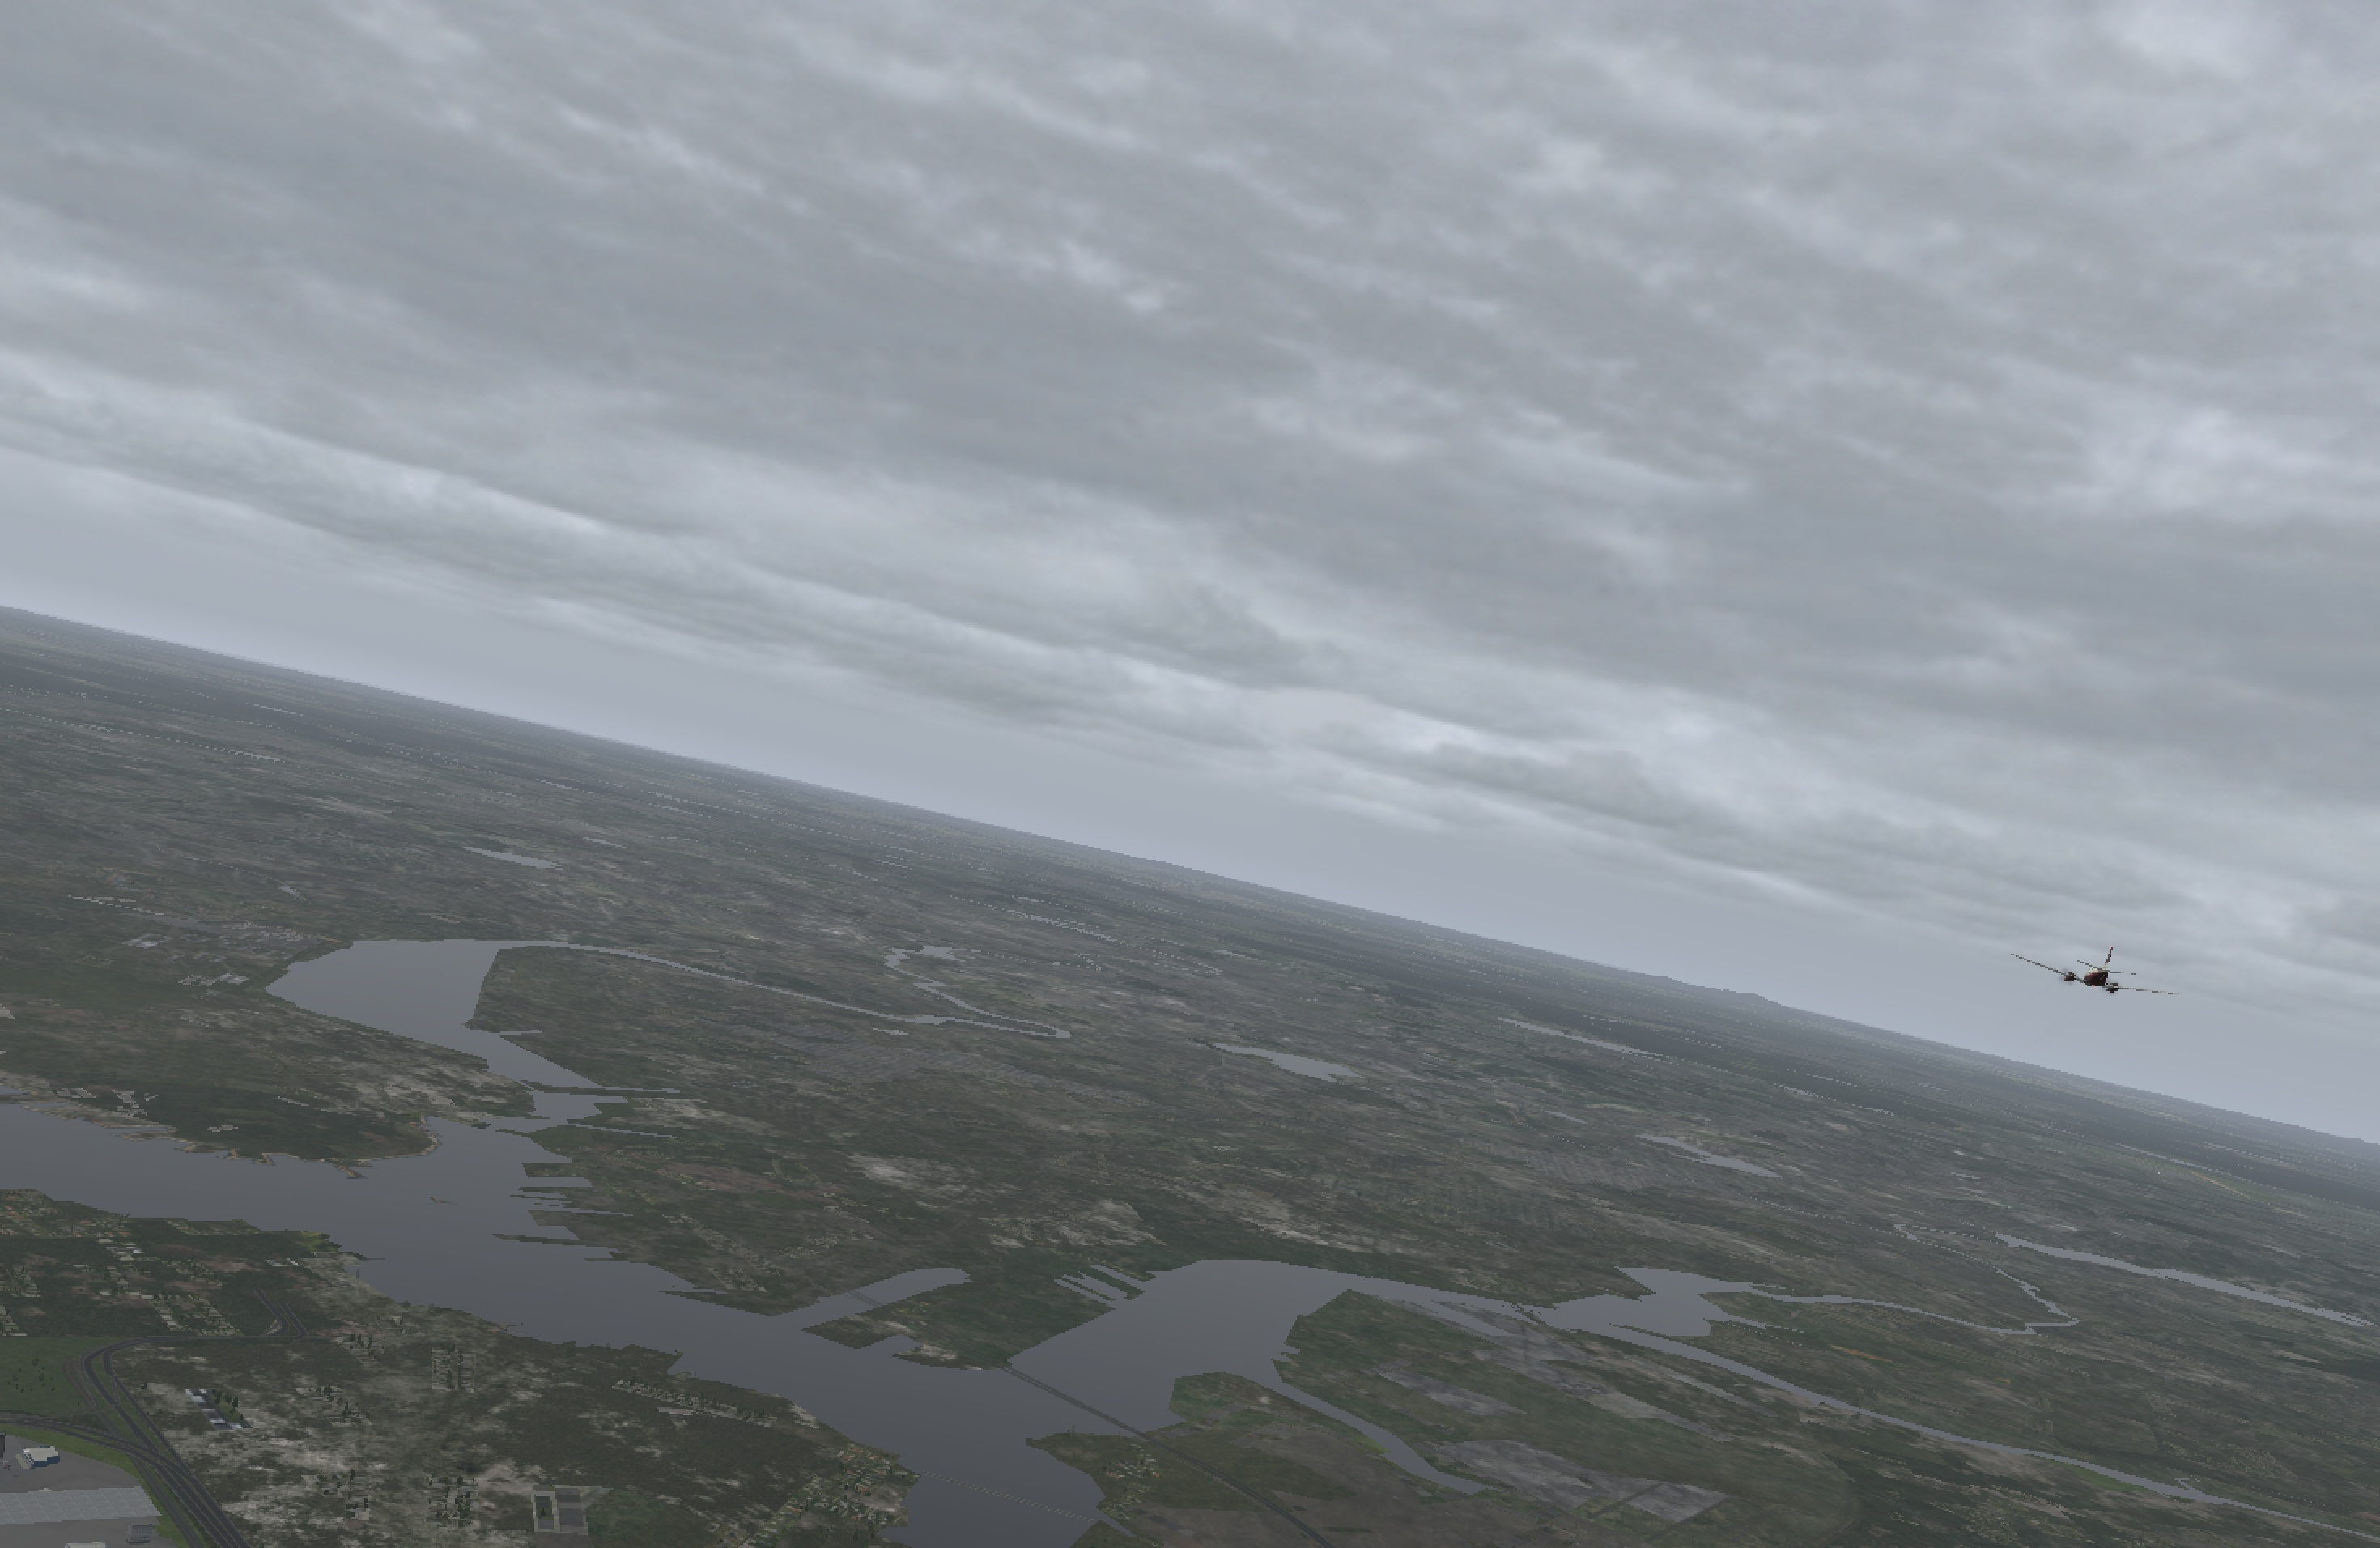aircraft: (2019, 956, 2167, 1012)
